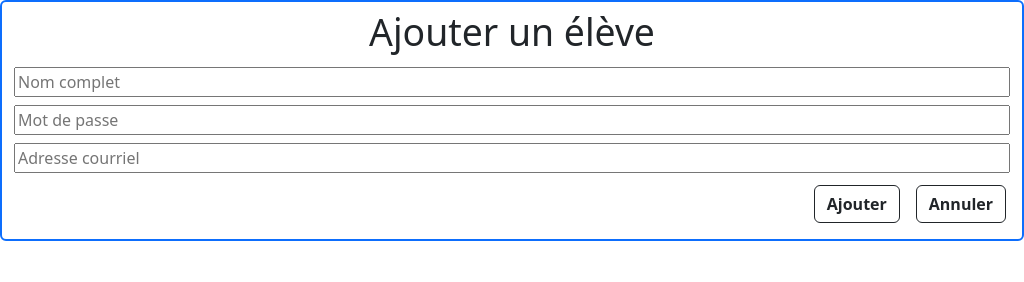
Test case: AddStudentForm.vue › Sending a form with no name shows empty name error message
The width and height of the screenshot is (1024, 282).
Type "MPvalide" into the field named "password" at (512, 120), box [14, 105, 1010, 135]
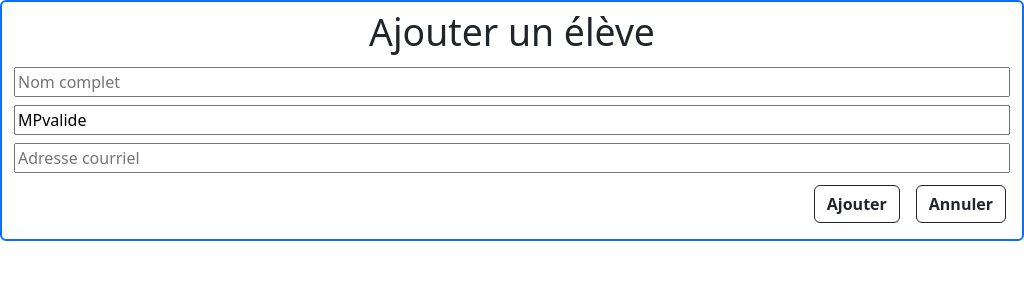
Type "email@valide.com" into the field named "email" at (512, 158), box [14, 143, 1010, 173]
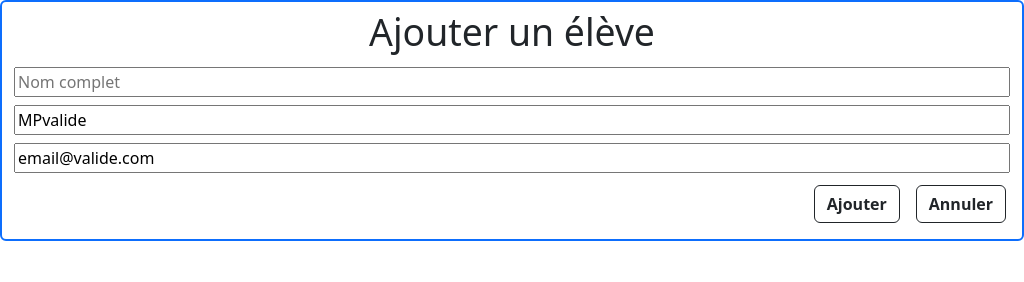
Click the button named "addButton" at (857, 204), box [814, 185, 900, 223]
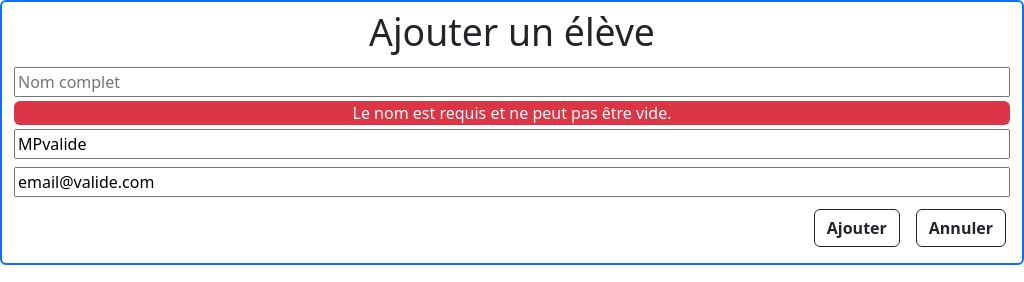
Result: the text named "nameError" reads "Le nom est requis et ne peut pas être vide." at [352, 102, 671, 124]
